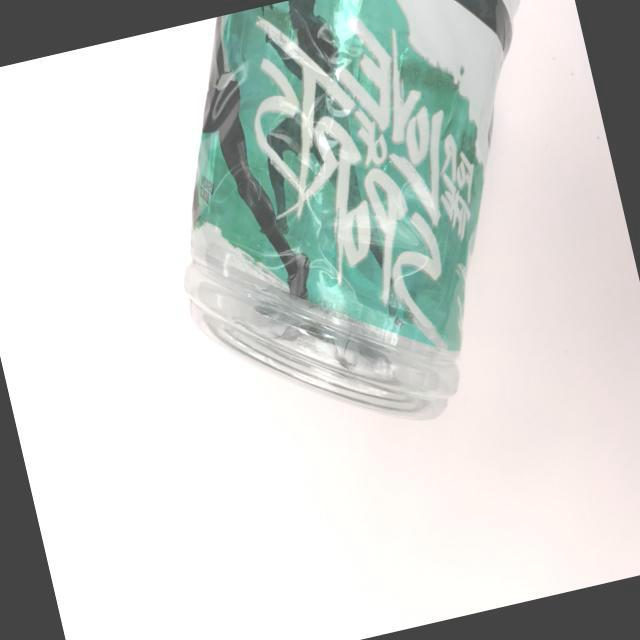plastic: (123, 0, 621, 467)
